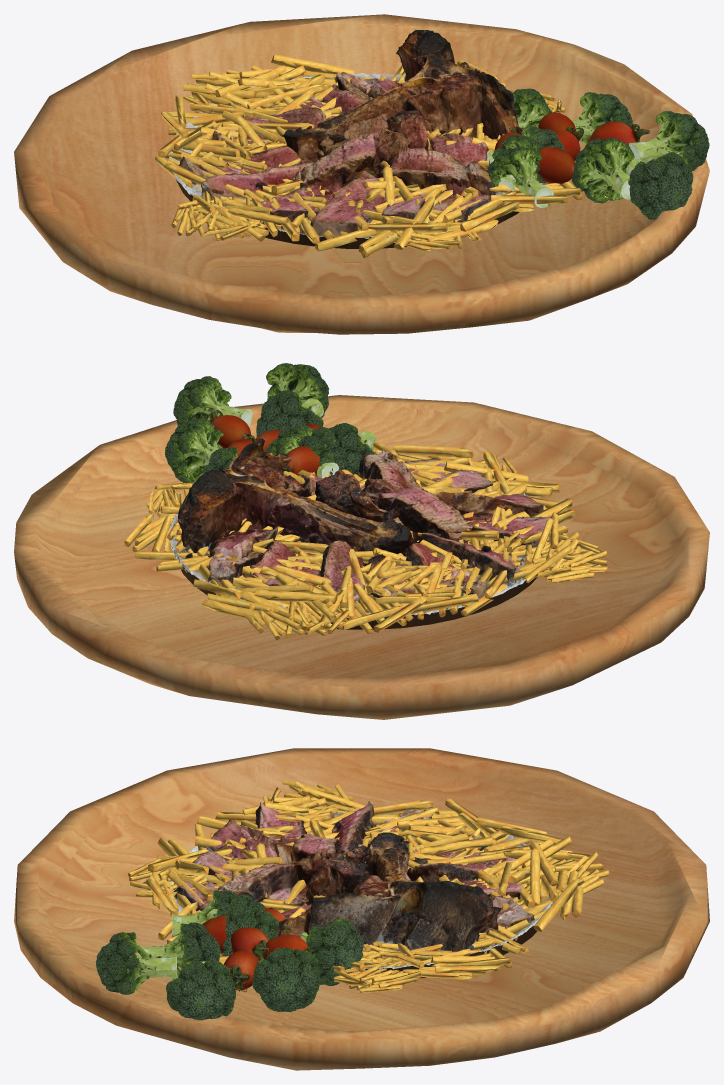
File: steak-v3.glb
3 renders of one model, top to bottom at view 1: azimuth 30°, elevation 25°; view 2: azimuth 150°, elevation 25°; view 3: azimuth 270°, elevation 25°, orthographic.
Parts seen in each view (by area): view 1: wooden-plate, FlorenceSteak_Model_3, Fries_Cluster_00, Object_2.006, Object_3; view 2: wooden-plate, FlorenceSteak_Model_3, Fries_Cluster_00, Object_2.006, Object_3; view 3: wooden-plate, Fries_Cluster_00, FlorenceSteak_Model_3, Object_2.006, Object_3.
Boxes of the visible parts, x1,y1,x2,y2 form: wooden-plate: (14, 14, 709, 334); FlorenceSteak_Model_3: (169, 30, 543, 248); Fries_Cluster_00: (155, 54, 582, 258); Object_2.006: (487, 88, 709, 219); Object_3: (494, 111, 650, 184); wooden-plate: (14, 395, 709, 719); FlorenceSteak_Model_3: (169, 438, 553, 629); Fries_Cluster_00: (124, 431, 607, 640); Object_2.006: (165, 363, 377, 482); Object_3: (205, 410, 322, 475); wooden-plate: (14, 748, 709, 1070); Fries_Cluster_00: (128, 780, 609, 993); FlorenceSteak_Model_3: (169, 801, 552, 980); Object_2.006: (96, 890, 363, 1020); Object_3: (202, 908, 314, 992).
Size of the model in its own units: 0.2561 by 0.0463 by 0.2561.
5 materials, 5 textured.
